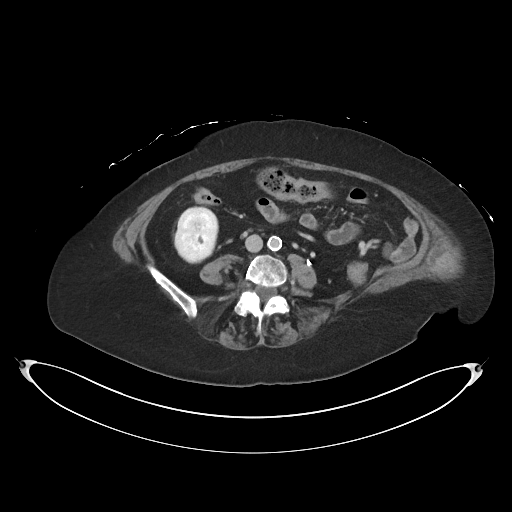Lesion: (194, 235, 206, 245)
